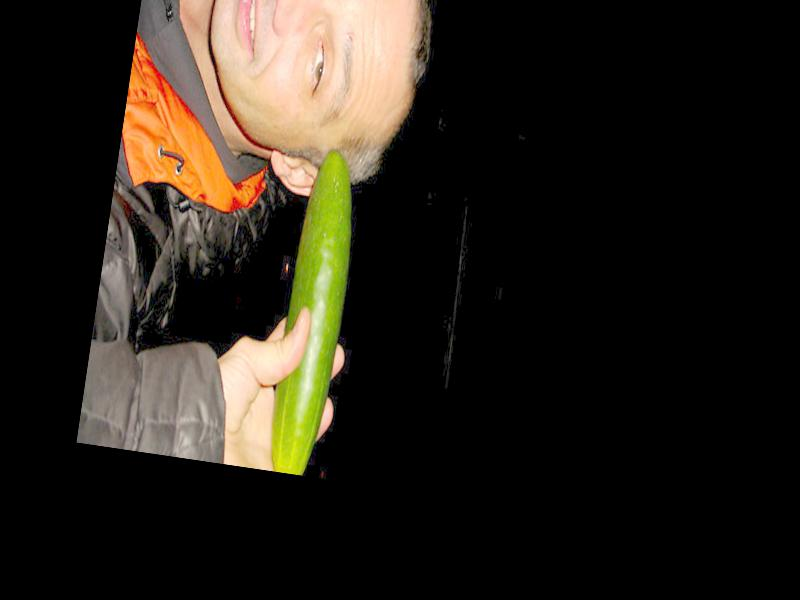Cucumber: (265, 144, 364, 475)
